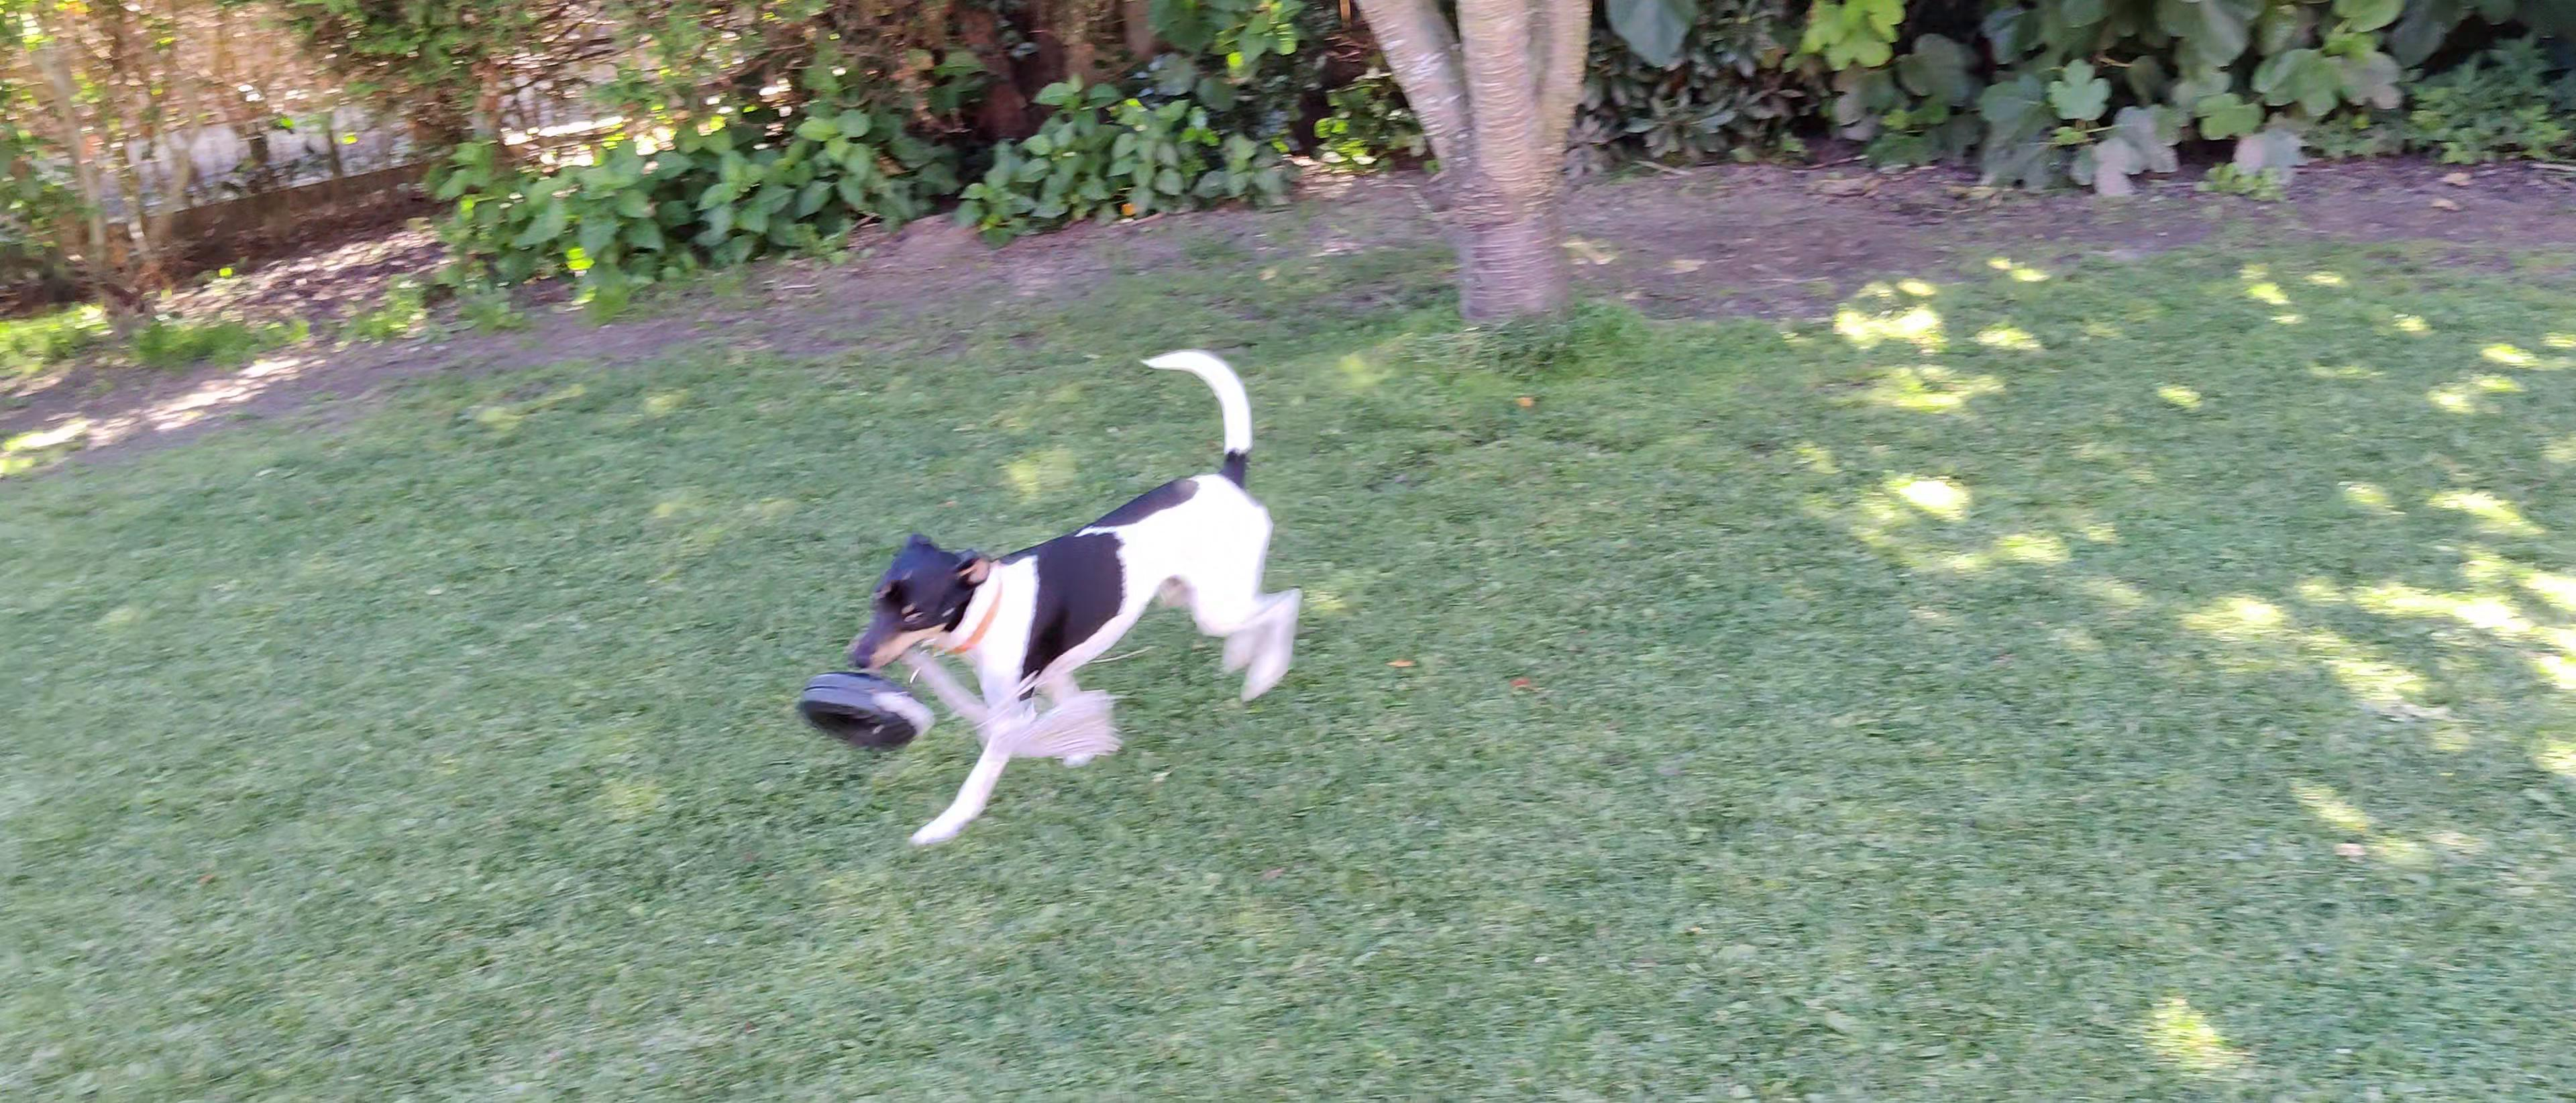Dog: (803, 342, 1319, 851)
